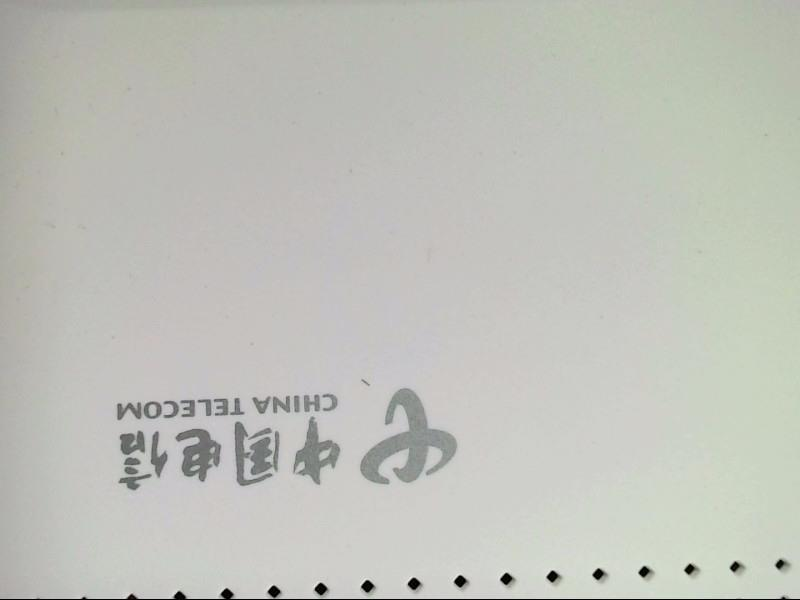AB_ChinaTelecom: (97, 375, 478, 506)
